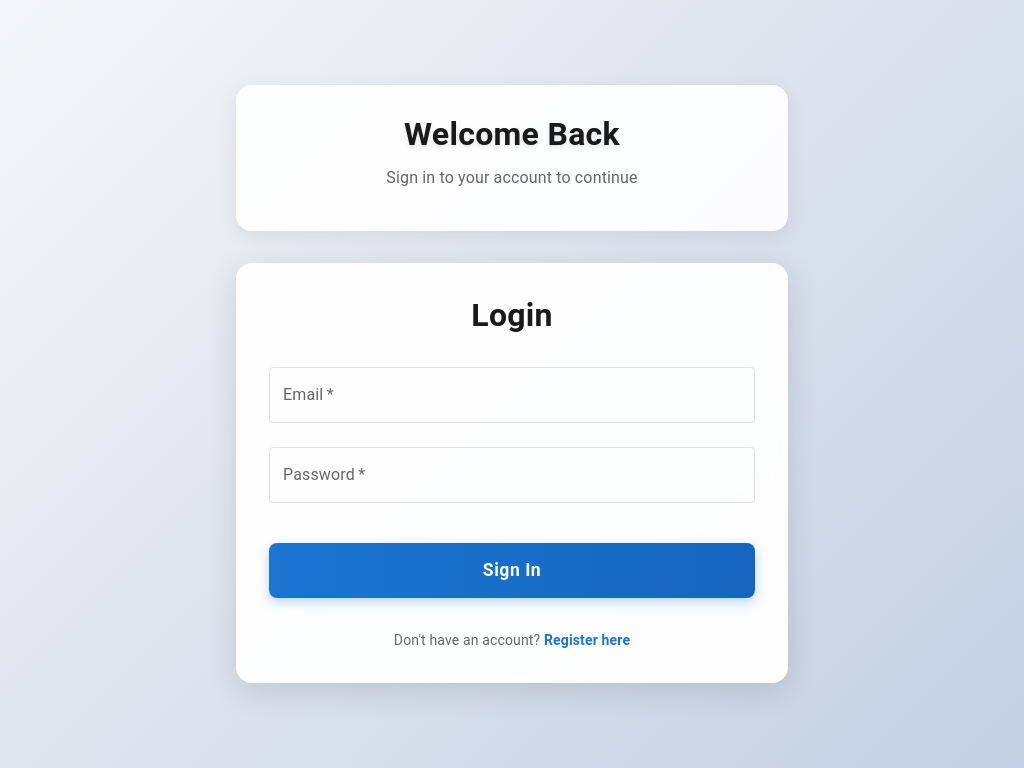
Test: Auth page › shows error from server when login fails
Type "user@example.com" into the field labelled "Email *".
click(512, 395); type("user@example.com")  # box [269, 367, 755, 423]
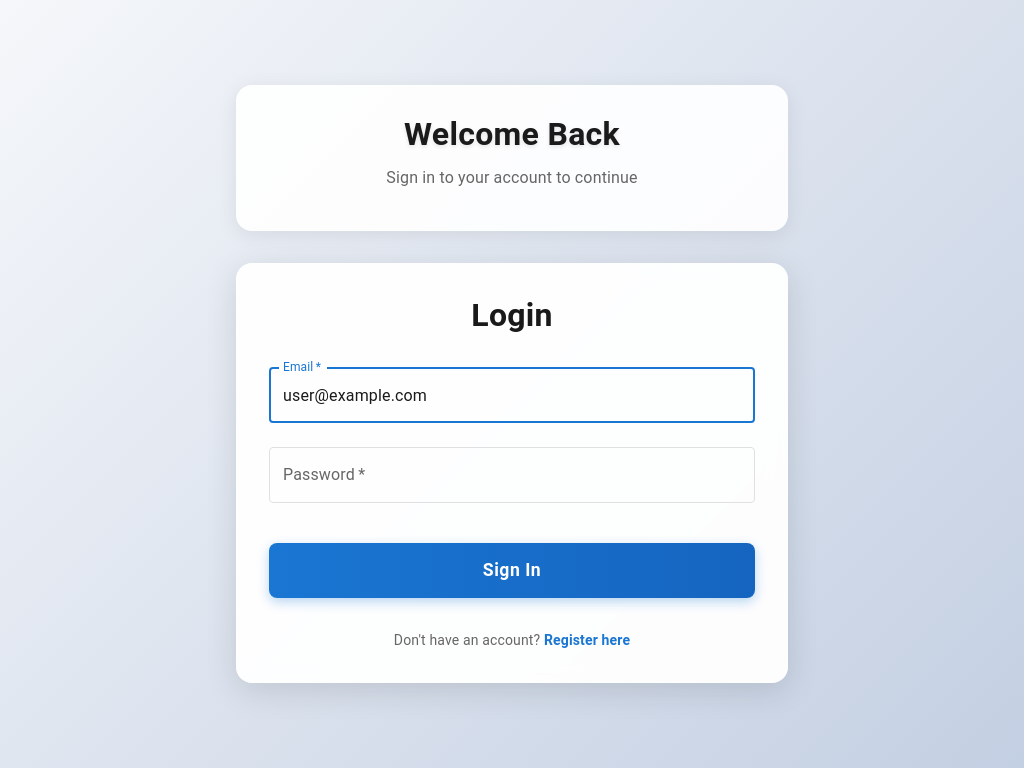
Type "Password123!" into the password field labelled "Password *".
click(512, 475); type("Password123!")  # box [269, 447, 755, 503]
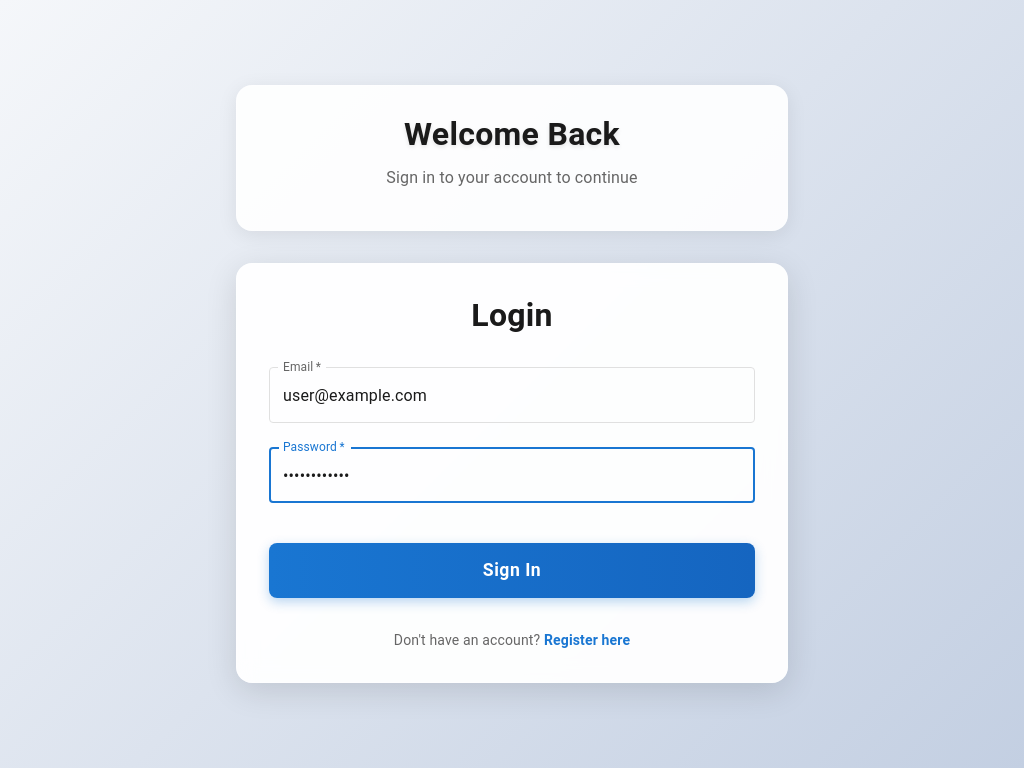
Click the button "Sign In".
click(512, 571)  # box [269, 543, 755, 598]
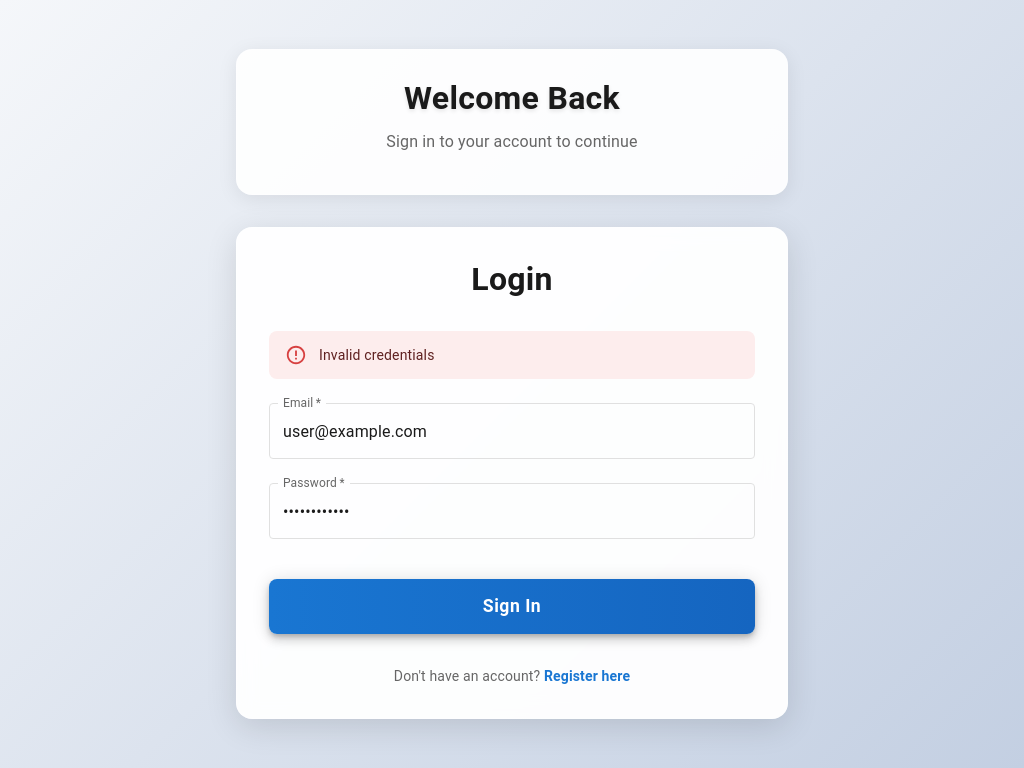
Check: the text "Invalid credentials" is shown, box [319, 347, 434, 363]
